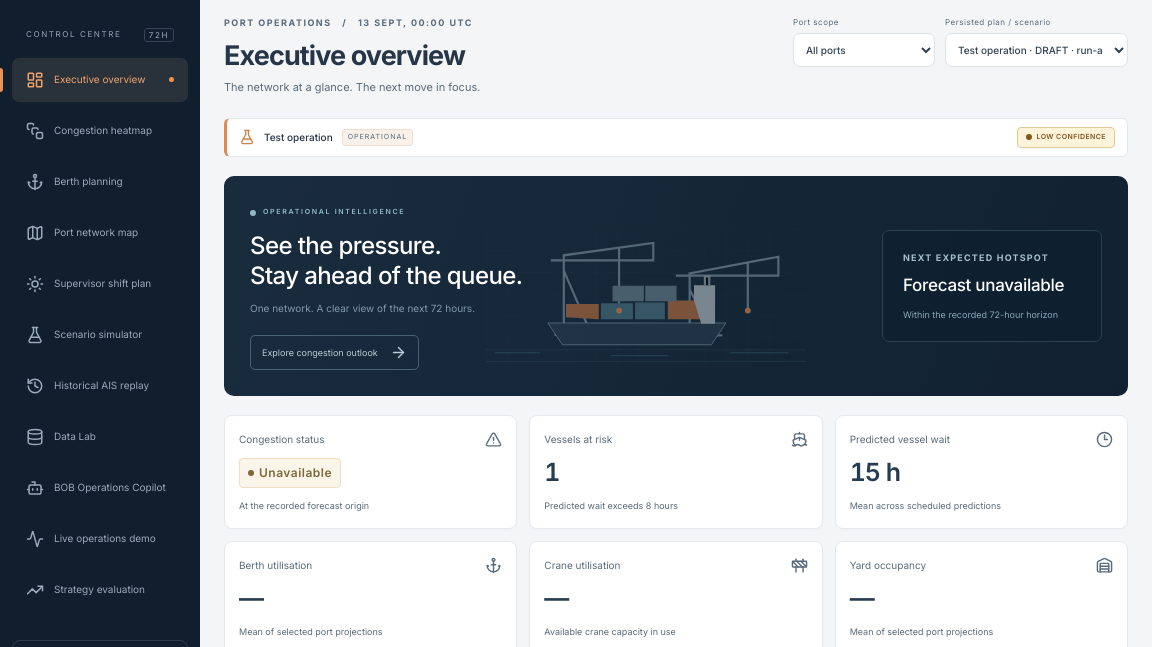
Test: operations command centre › prioritises supervisor decisions and keeps the complete evidence collapsed
Click the button "Supervisor shift plan".
click(100, 284)  # box [12,262,188,306]
(page scrolled)
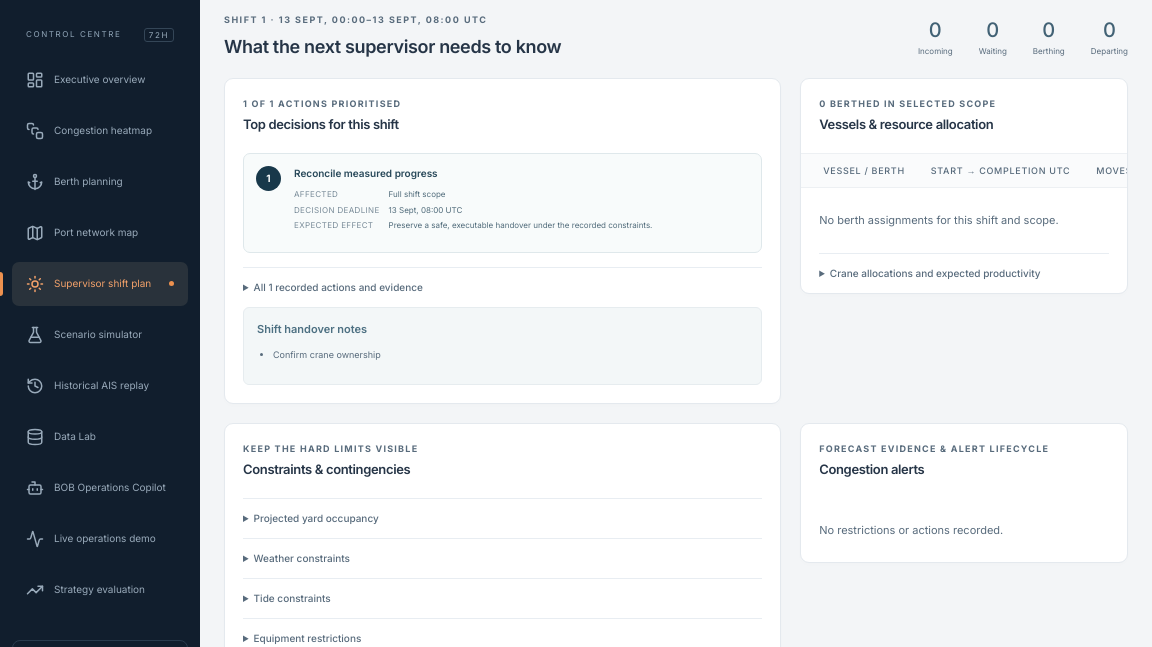
Check: the heading "Top decisions for this shift" is shown, box [243,115,401,135]
Check: the text "Reconcile measured progress" is shown 2 times
Check: the text "Decision deadline" is shown, box [294,205,380,216]
